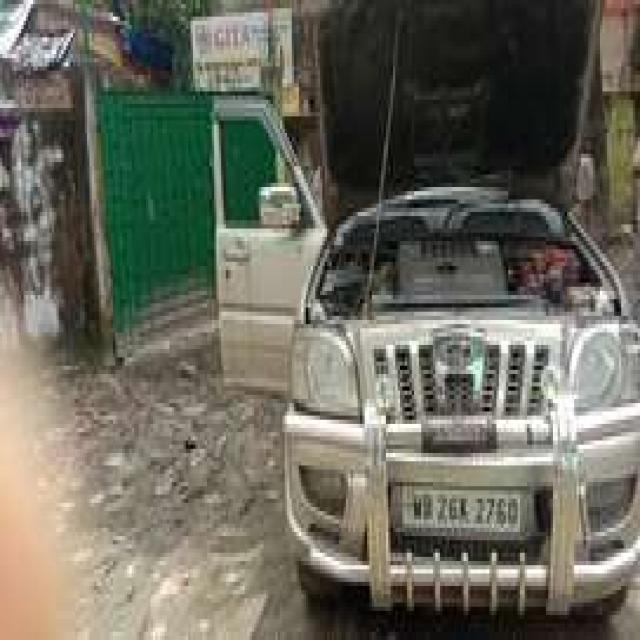Plate: (399, 483, 519, 525)
